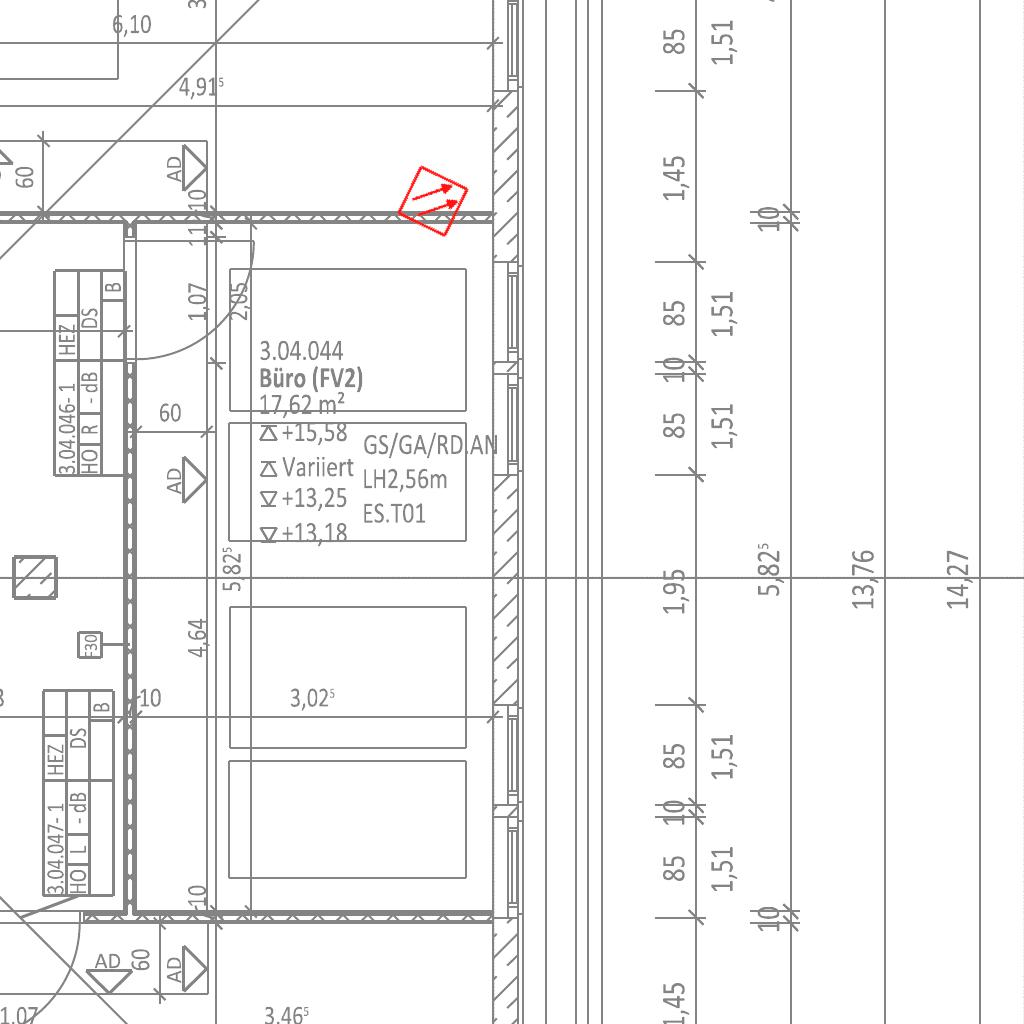RMO_Rauchmelder_optischer: (395, 163, 471, 239)
